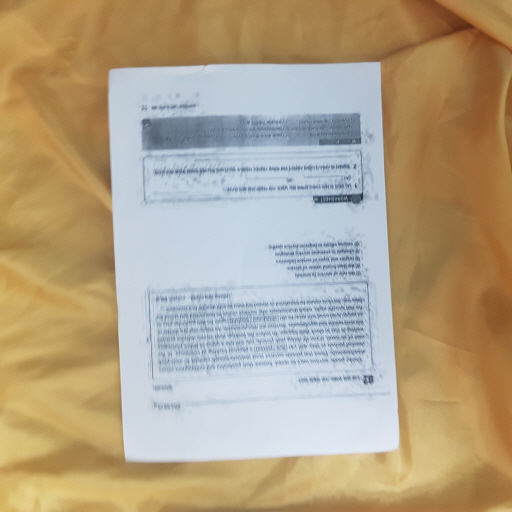Paper_2: (105, 55, 416, 466)
